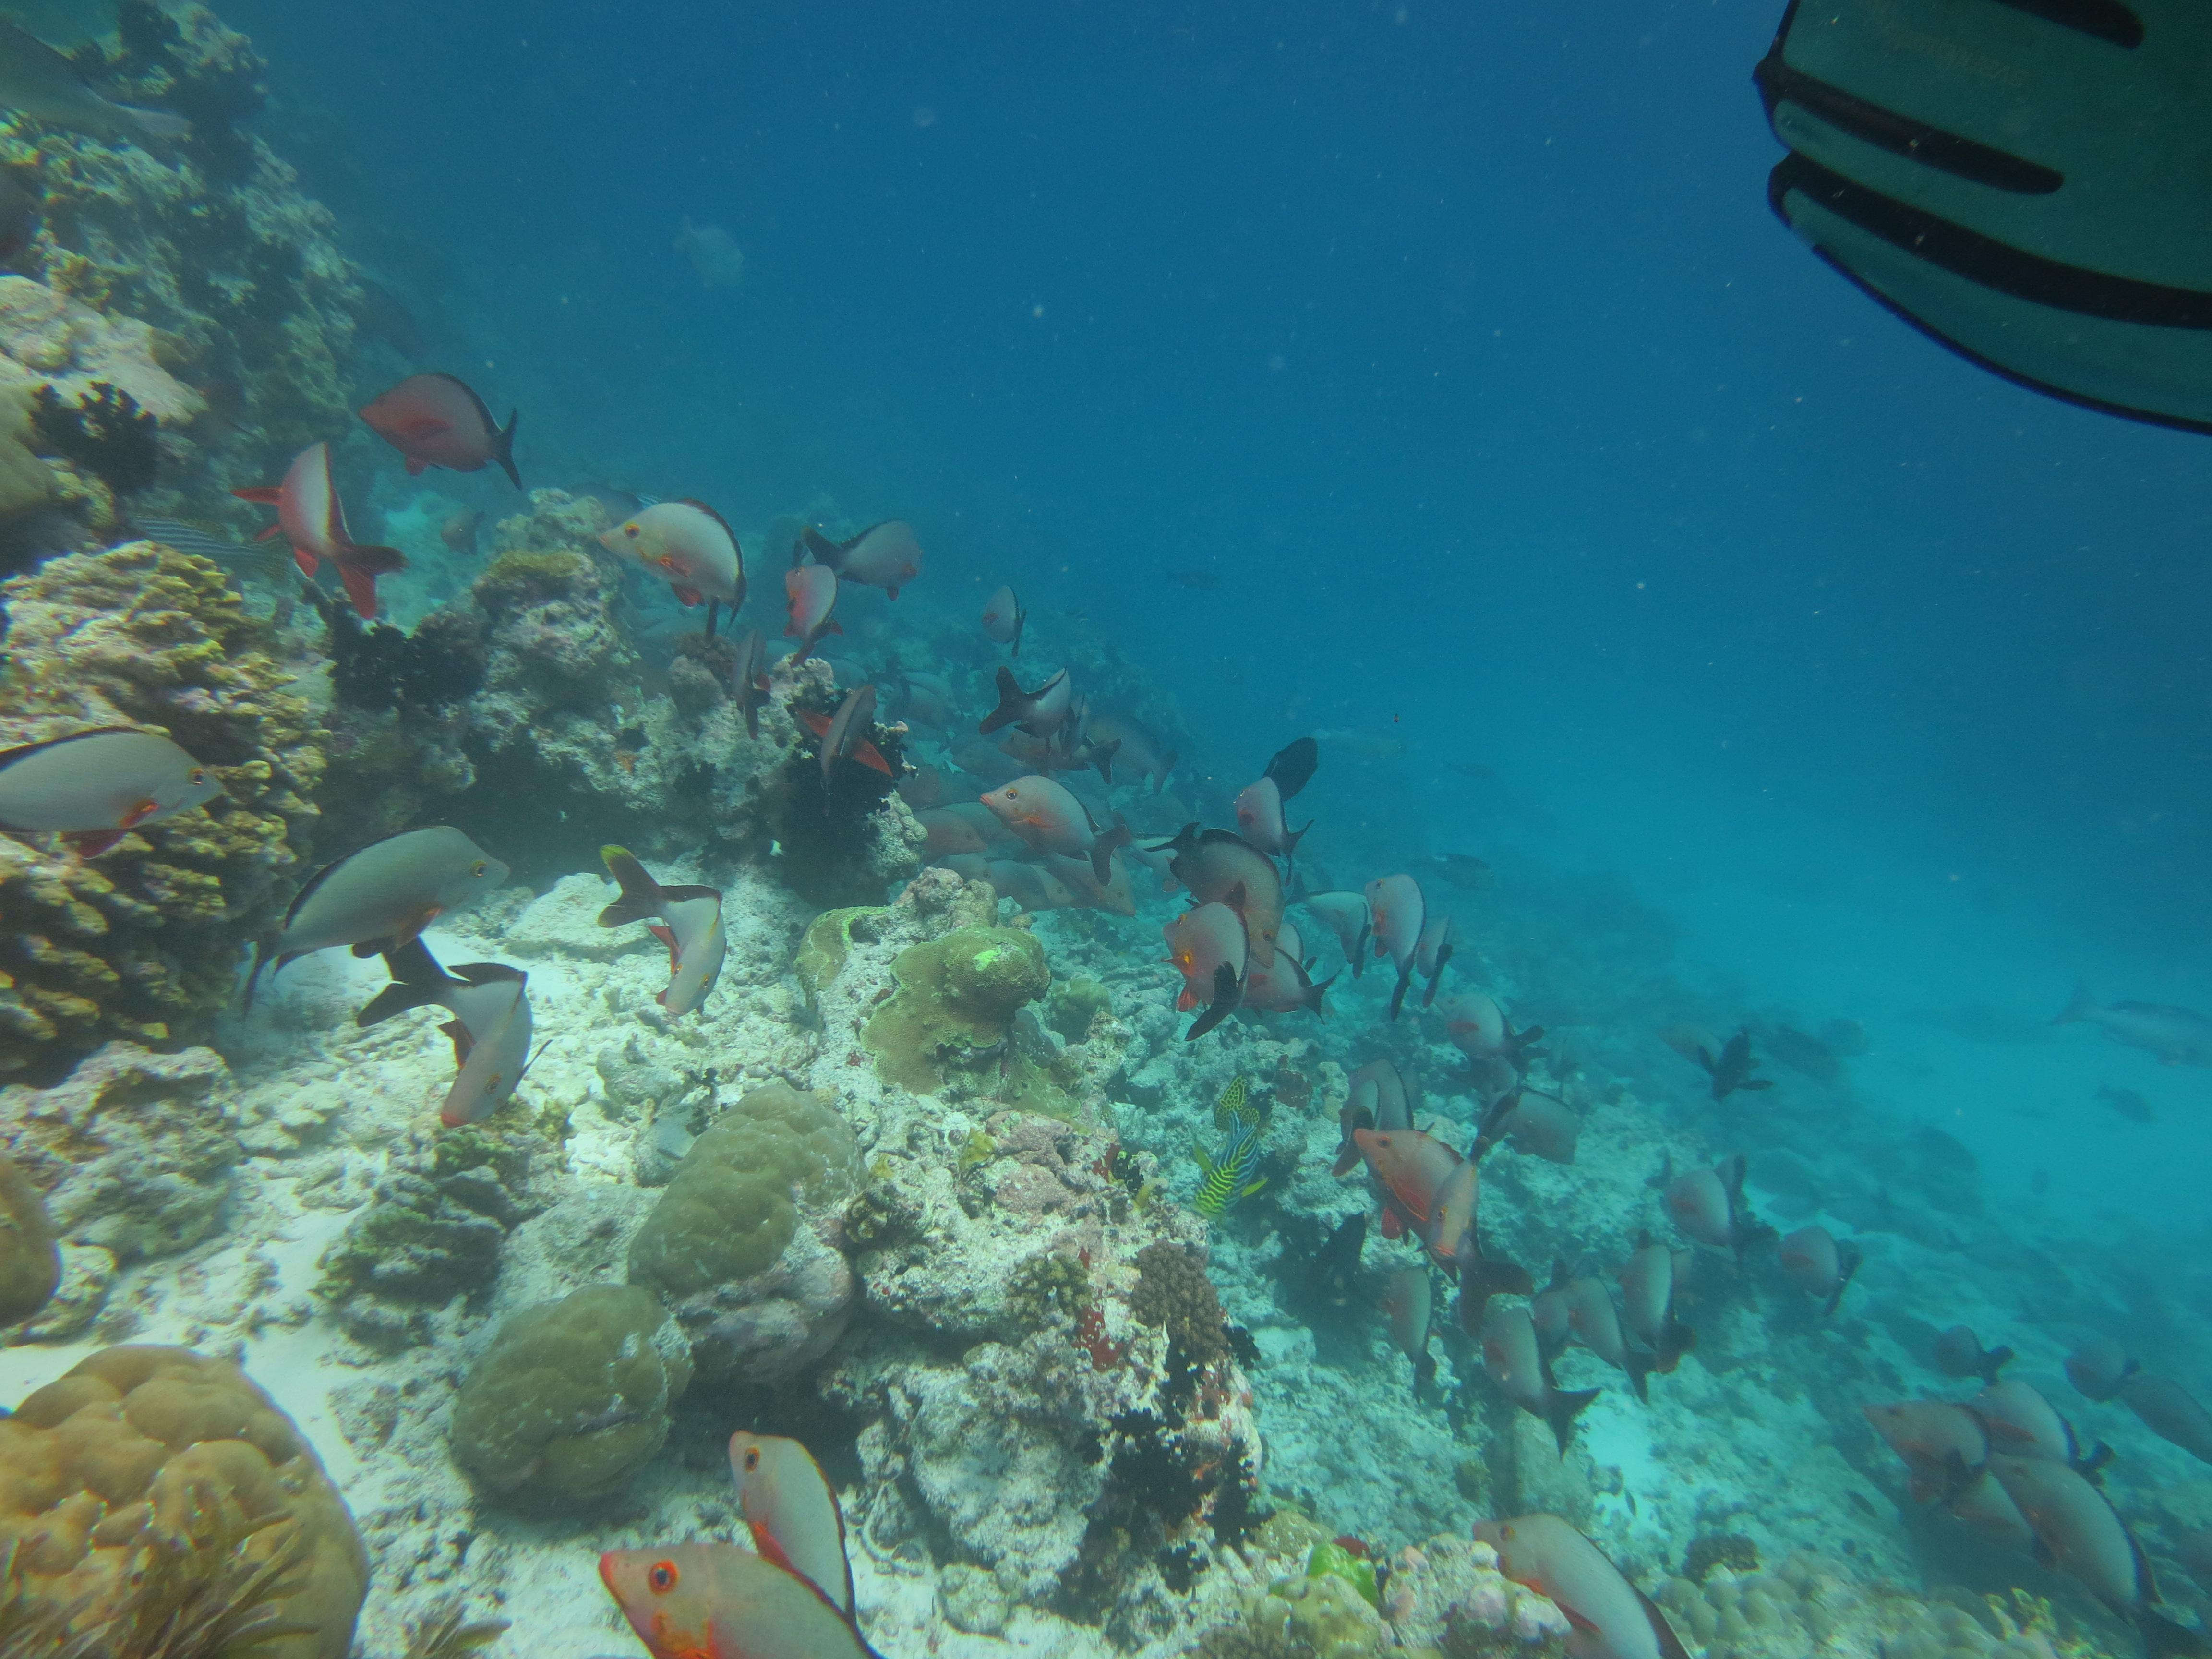Lutjanus gibbus: (237, 819, 516, 964), (347, 932, 547, 1131), (0, 713, 233, 861), (575, 849, 742, 1016), (580, 481, 756, 638), (975, 772, 1129, 887), (1158, 894, 1258, 1046), (981, 657, 1075, 748), (775, 565, 852, 666)
